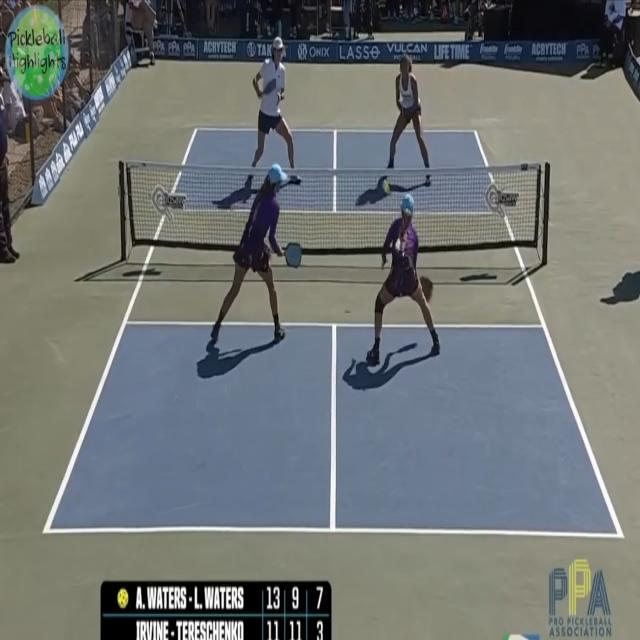Court: (45, 130, 620, 537)
